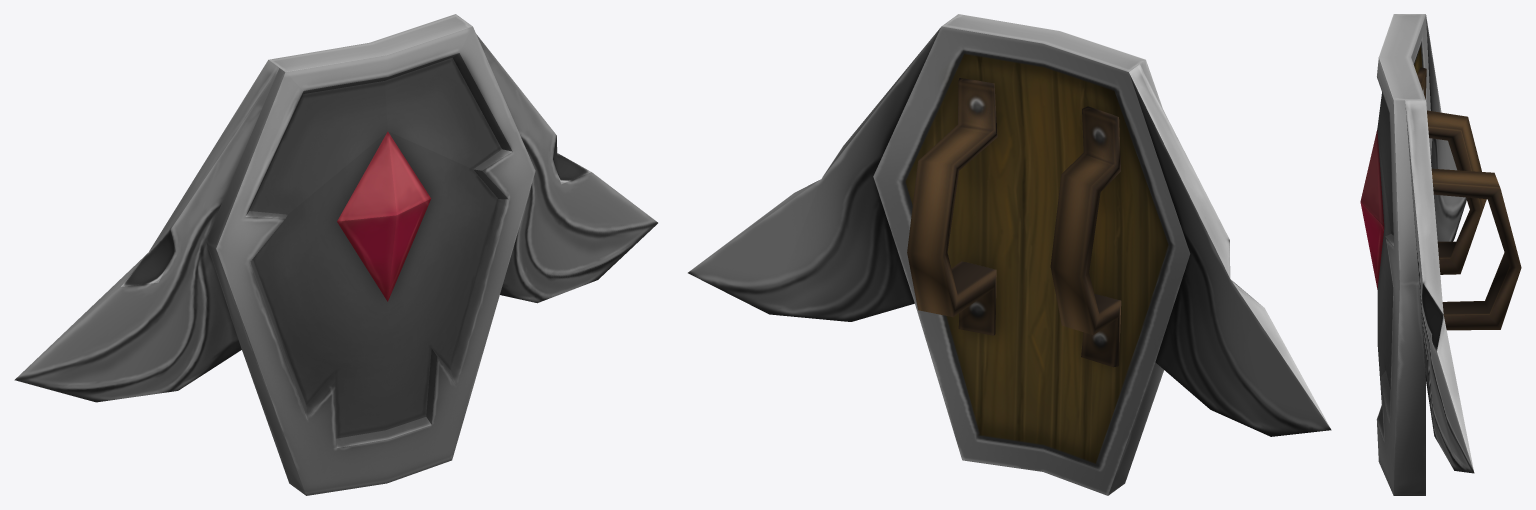
The model's file is weapon_light_shield.fbx.
The picture shows the model from 3 angles, left to right: view 1: azimuth 30°, elevation 25°; view 2: azimuth 150°, elevation 25°; view 3: azimuth 270°, elevation 25°; orthographic projection. The views are drawn at different scales.
Visible parts, largest first — view 1: lightKnight_shield; view 2: lightKnight_shield; view 3: lightKnight_shield.
Part boxes in pixels (x1,y1,x2,y2): lightKnight_shield: (14,14,657,495); lightKnight_shield: (688,14,1331,495); lightKnight_shield: (1360,14,1521,495).
Size of the model in its own units: 72.88 by 46.36 by 16.7.
